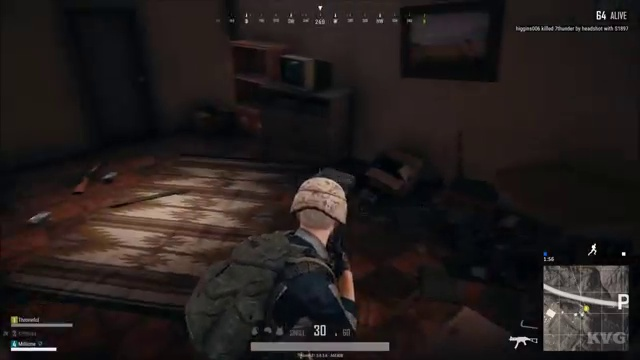Player: (183, 156, 404, 319)
